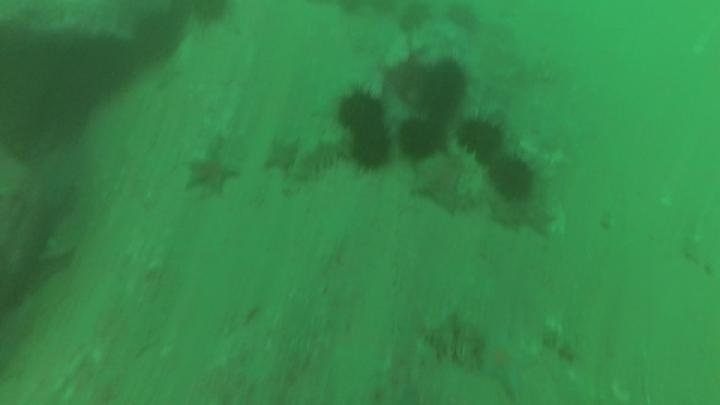echinus: (381, 56, 438, 116), (415, 58, 470, 117), (130, 11, 186, 64), (335, 87, 389, 133), (487, 154, 537, 203), (454, 114, 507, 160), (397, 115, 446, 162), (348, 122, 393, 172), (188, 1, 236, 28), (443, 2, 482, 35)
holothurian: (418, 306, 489, 373), (287, 129, 353, 183)
starfish: (475, 329, 541, 399), (408, 151, 477, 215), (182, 142, 242, 200), (492, 195, 561, 240), (261, 134, 304, 179)
